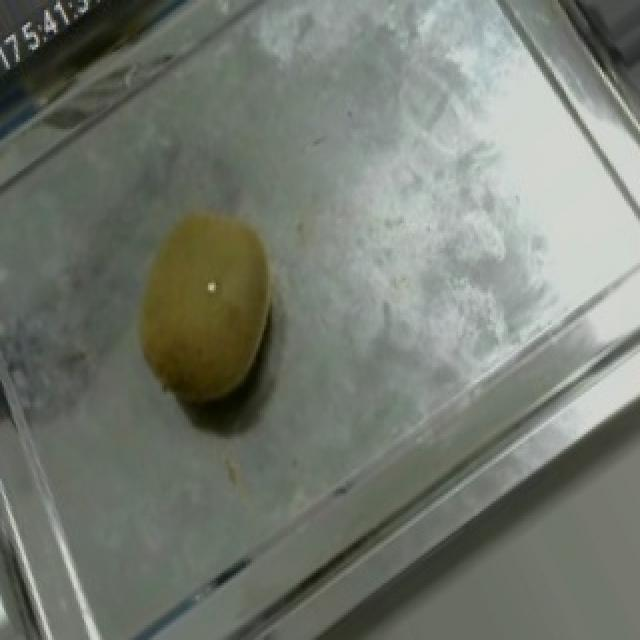Fruit: (98, 176, 312, 439)
